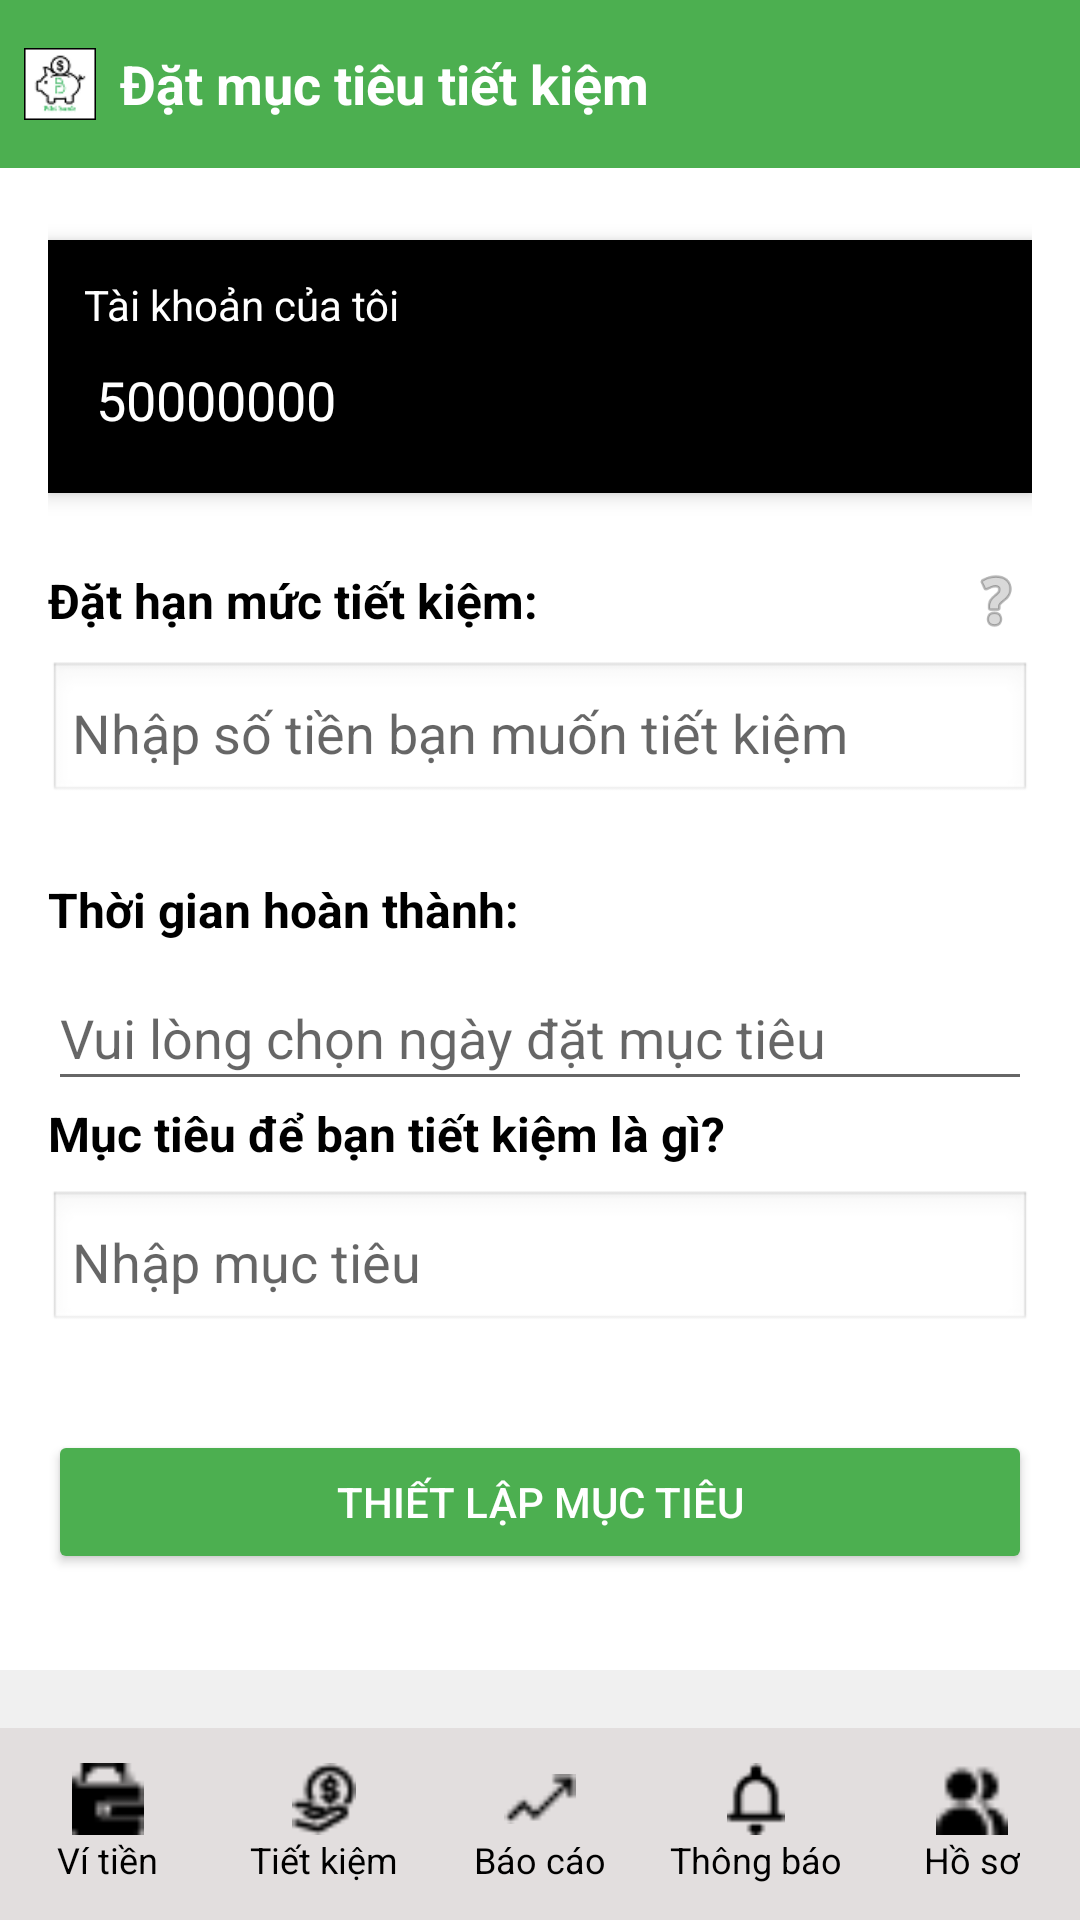

Icon click points for this 1080px x 1920px phone screenshot, format (x,y):
help: (996,601)
